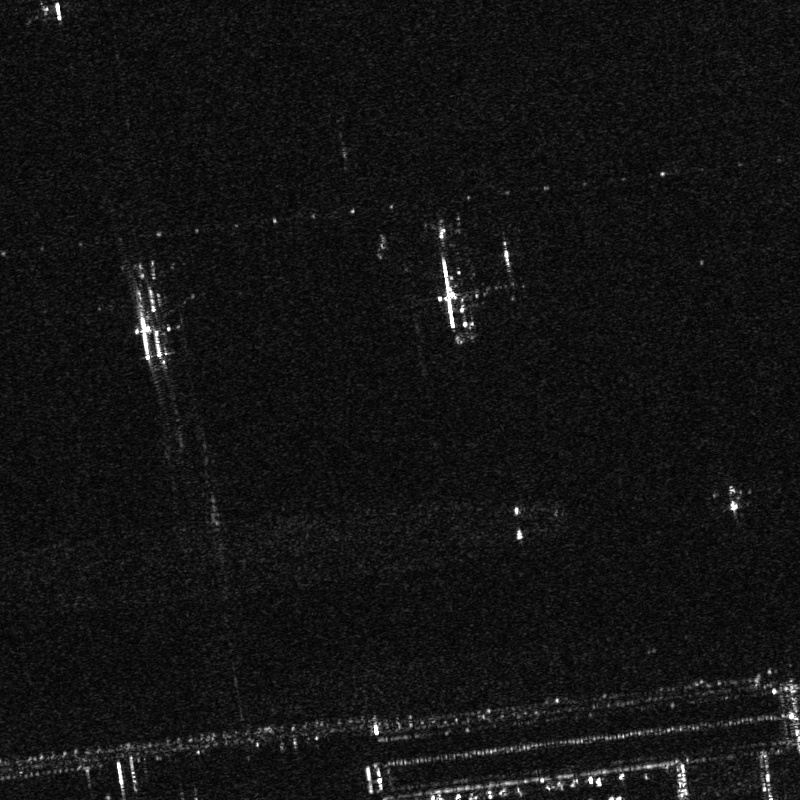A330: (710, 479, 753, 515)
